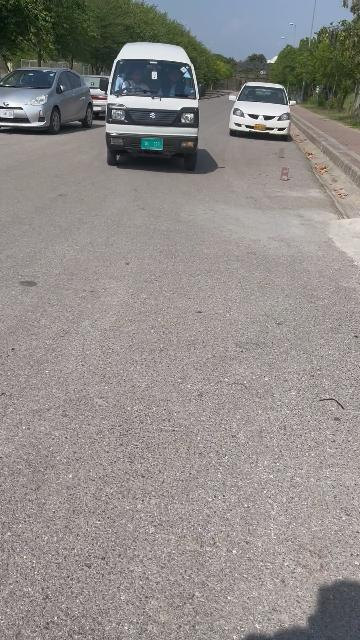plate: (142, 136, 164, 152)
